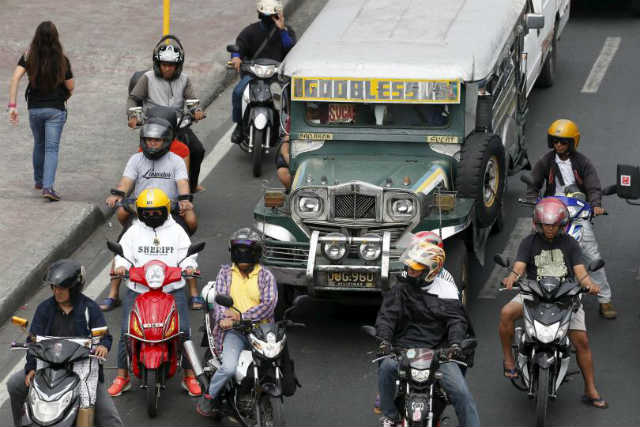helmet: (525, 197, 579, 242), (44, 255, 89, 307), (228, 223, 273, 271), (137, 184, 176, 226), (544, 123, 583, 158), (154, 39, 186, 81)
